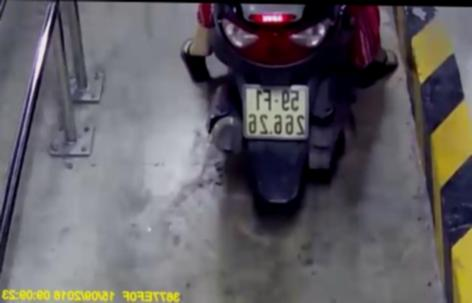License_Plate: (234, 79, 319, 149)
